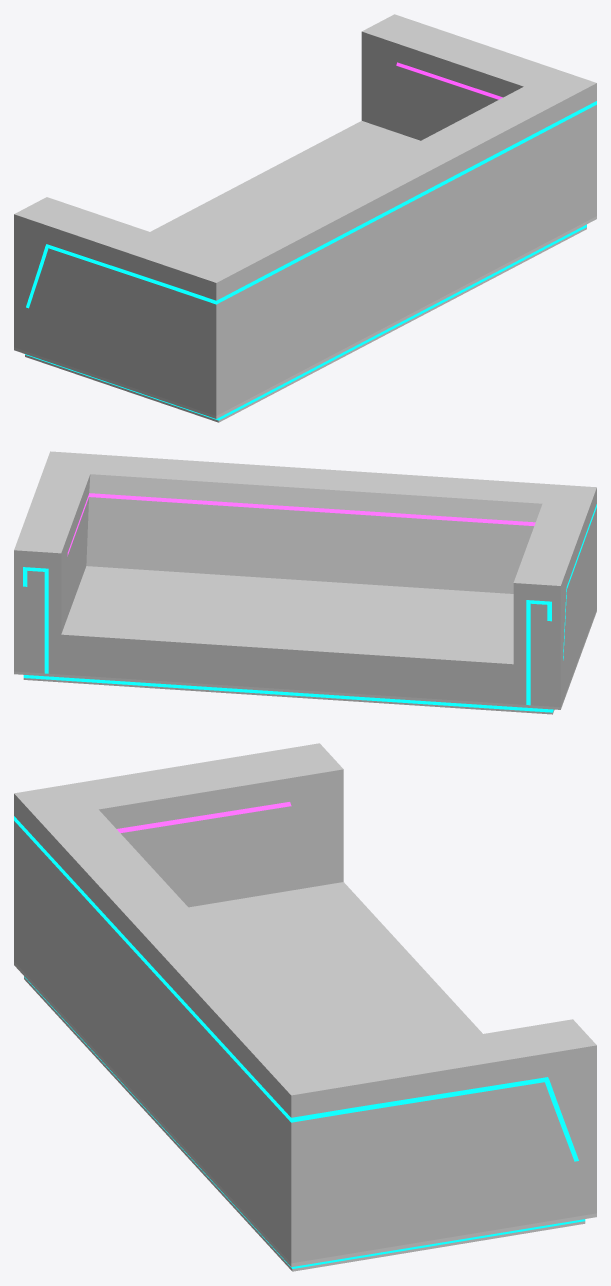
File: modular_corner_couch.glb
3 views of the same model, one above another, from view 1: azimuth 30°, elevation 25°; view 2: azimuth 150°, elevation 25°; view 3: azimuth 270°, elevation 25° (orthographic). The views are drawn at different scales.
Visible parts, largest first — view 1: Couch.003; view 2: Couch.003; view 3: Couch.003.
Part boxes in pixels (x1=…): Couch.003: x1=14, y1=14, x2=596, y2=422; Couch.003: x1=14, y1=451, x2=596, y2=714; Couch.003: x1=14, y1=743, x2=596, y2=1271.
Size of what is drawn, in the model's own units: 3.02 by 0.7275 by 2.11.
